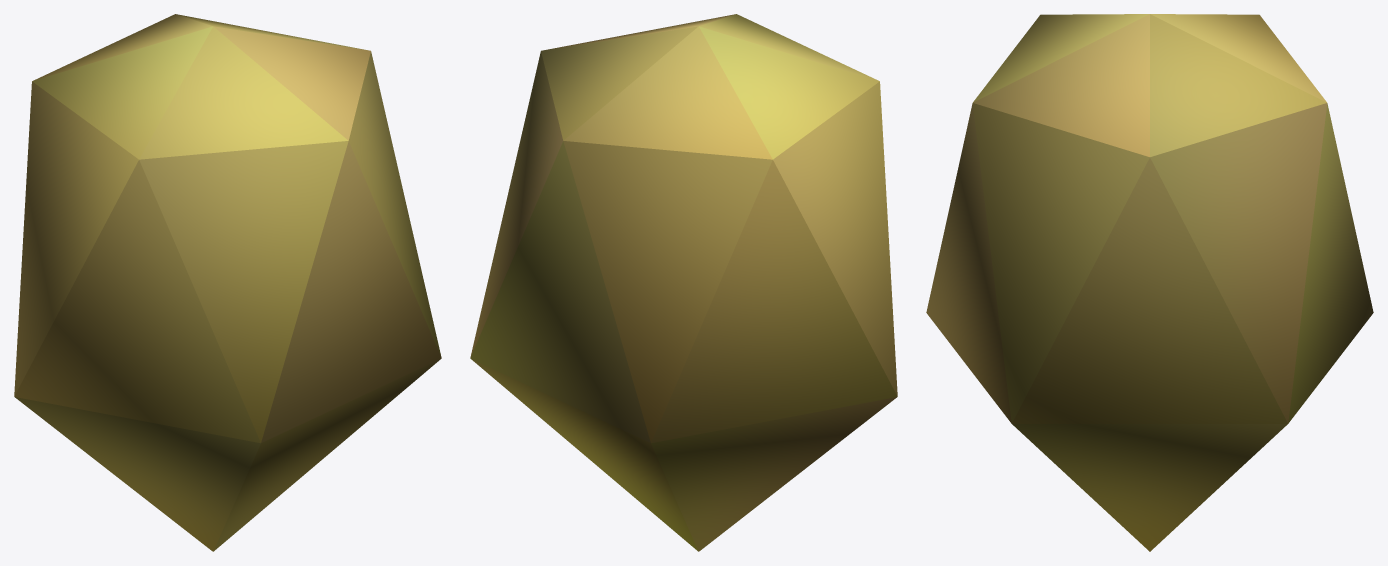
File: collectible_bk_foret_broceliande_0003.glb
The picture shows the model from 3 angles, left to right: view 1: azimuth 30°, elevation 25°; view 2: azimuth 150°, elevation 25°; view 3: azimuth 270°, elevation 25°; orthographic projection. The views are drawn at different scales.
Parts seen in each view (by area): view 1: collectible_bk_003; view 2: collectible_bk_003; view 3: collectible_bk_003.
Boxes of the visible parts, left/top/right/bottom form: collectible_bk_003: left=14, top=14, right=441, bottom=551; collectible_bk_003: left=470, top=14, right=897, bottom=551; collectible_bk_003: left=926, top=14, right=1373, bottom=551.
Size of the model in its own units: 0.2508 by 0.35 by 0.2638.
